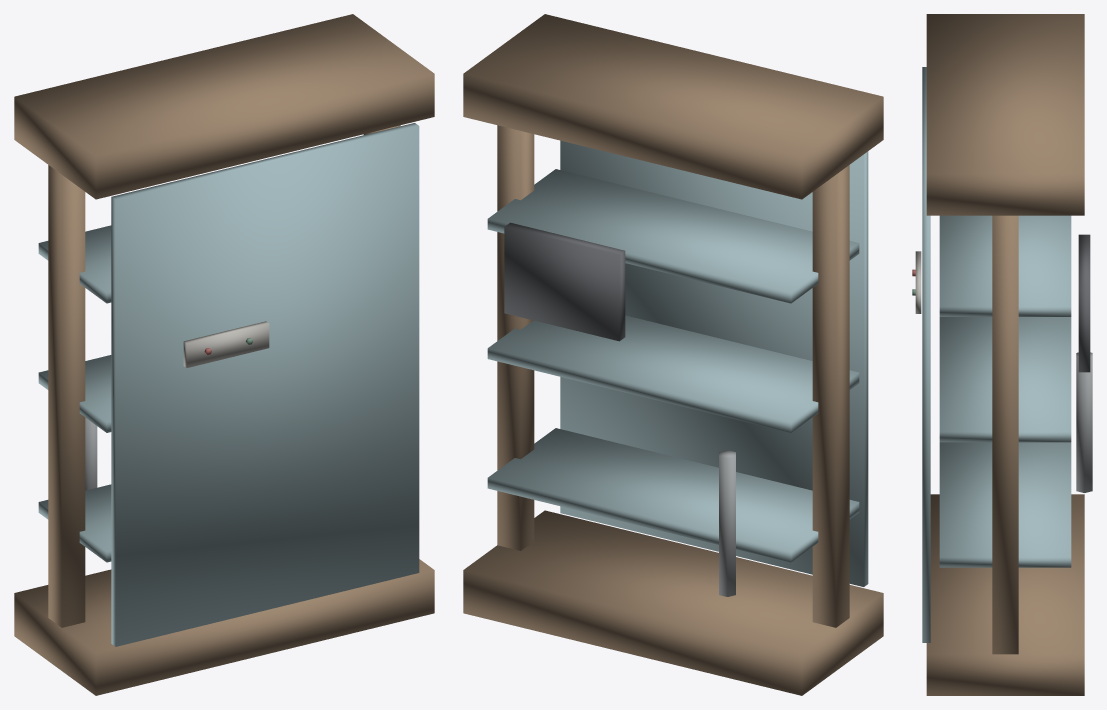
Rendered from glass_display_cabinet__service.glb.
3 views of the same model, side by side, from view 1: azimuth 30°, elevation 25°; view 2: azimuth 150°, elevation 25°; view 3: azimuth 270°, elevation 25° (orthographic). The views are drawn at different scales.
Parts seen in each view (by area): view 1: world; view 2: world; view 3: world.
Boxes of the visible parts, x1,y1,x2,y2 form: world: (14,14,434,695); world: (463,14,883,695); world: (912,14,1092,695).
Bounding box in the file's own units: 1.15 × 1.75 × 0.5484.
